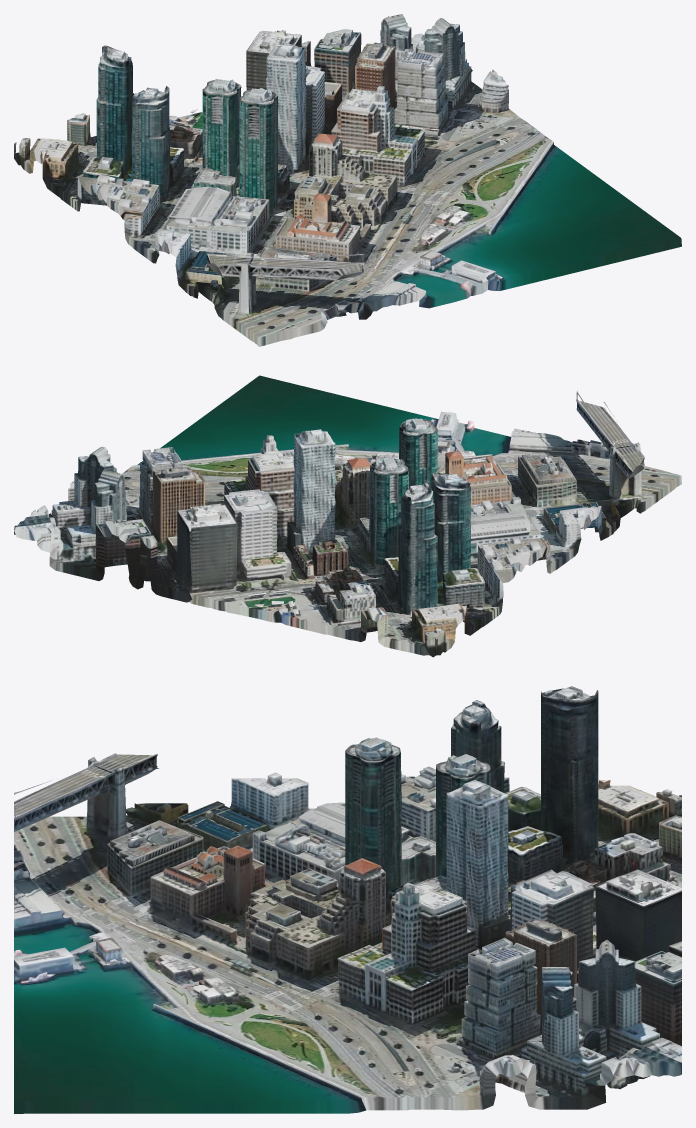
Rendered from z16-10487-25327-h0-yup-uvflip-v3-world.glb.
3 views of the same model, one above another, from view 1: azimuth 30°, elevation 25°; view 2: azimuth 150°, elevation 25°; view 3: azimuth 270°, elevation 25° (orthographic). The views are drawn at different scales.
Size of the model in its own units: 484 by 145 by 485.
Materials: 1 (1 with a texture image).
